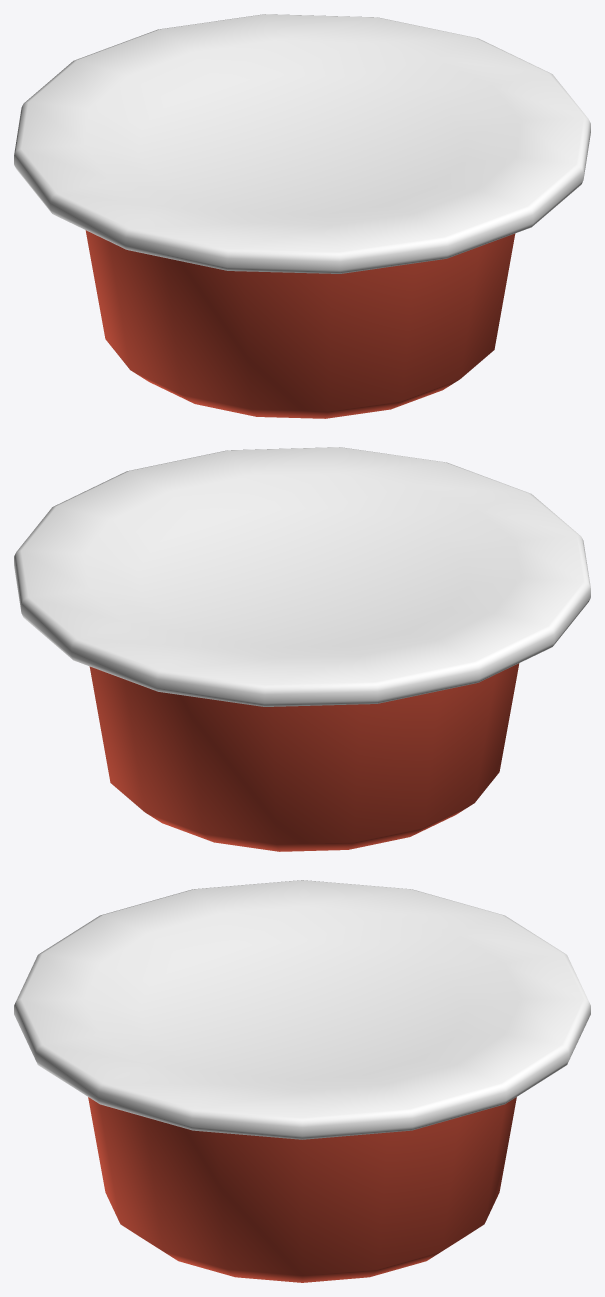
File: Custard_00.fbx
3 renders of one model, top to bottom at view 1: azimuth 30°, elevation 25°; view 2: azimuth 150°, elevation 25°; view 3: azimuth 270°, elevation 25°, orthographic.
Parts seen in each view (by area): view 1: Custard_00; view 2: Custard_00; view 3: Custard_00.
Boxes of the visible parts, left/top/right/bottom form: Custard_00: left=14, top=14, right=590, bottom=418; Custard_00: left=14, top=447, right=590, bottom=851; Custard_00: left=14, top=880, right=590, bottom=1282.
Bounding box in the file's own units: 26.13 × 10.48 × 26.13.
